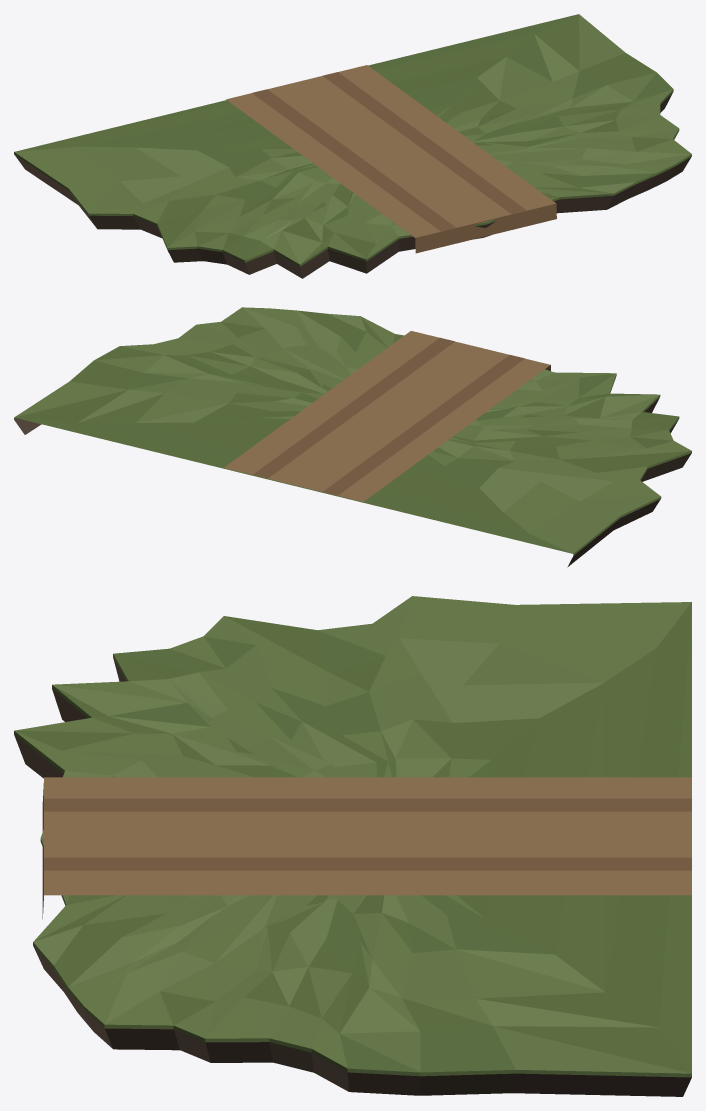
The model's file is lwf_gate_apron_v1.glb.
The picture shows the model from 3 angles, top to bottom: view 1: azimuth 30°, elevation 25°; view 2: azimuth 150°, elevation 25°; view 3: azimuth 270°, elevation 25°; orthographic projection. The views are drawn at different scales.
Visible parts, largest first — view 1: GateApron, Lane; view 2: GateApron, Lane; view 3: GateApron, Lane.
Boxes of the visible parts, x1,y1,x2,y2 form: GateApron: (14,14,691,278); Lane: (226,65,556,253); GateApron: (14,307,691,567); Lane: (224,331,550,501); GateApron: (14,596,691,1096); Lane: (42,777,691,919).
Size of the model in its own units: 16.2 by 0.506 by 9.72.
Materials: 1 (1 with a texture image).
